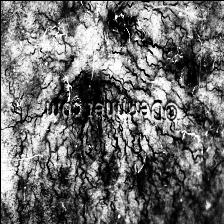Unclassified: (68, 119, 118, 176), (109, 6, 142, 52)
